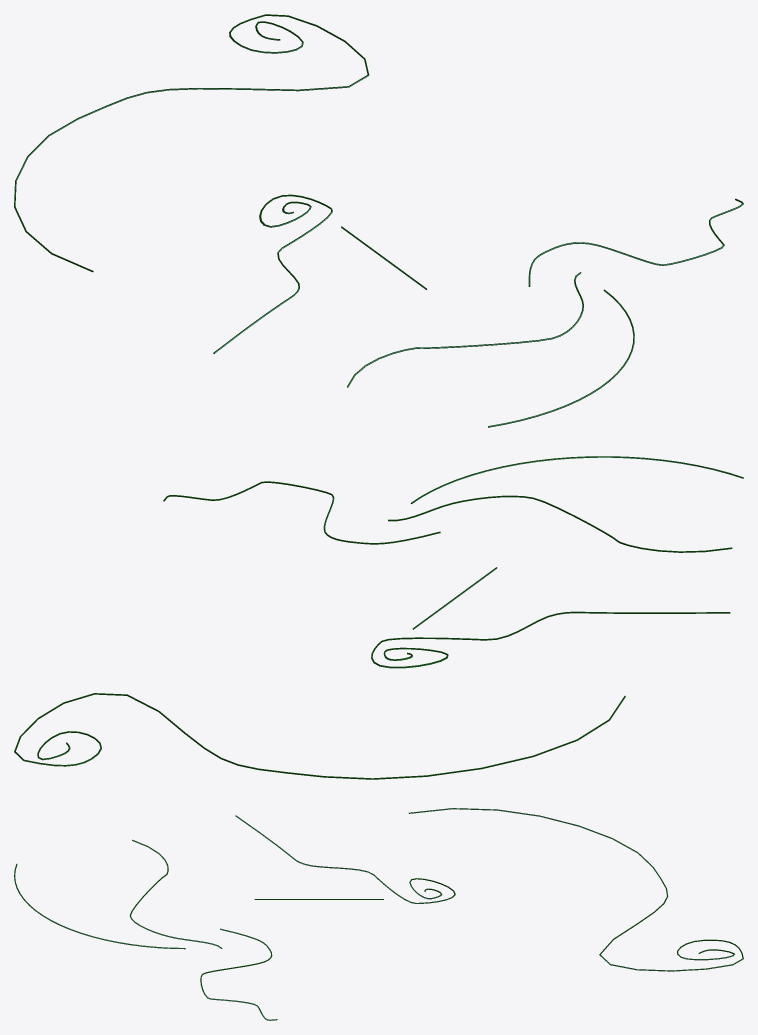
Rendered from cip+¦s.FBX.
3 renders of one model, top to bottom at view 1: azimuth 30°, elevation 25°; view 2: azimuth 150°, elevation 25°; view 3: azimuth 270°, elevation 25°, orthographic. The views are drawn at different scales.
Visible parts, largest first — view 1: Line005, Line004, Line002, Line003; view 2: Line005, Line004, Line003, Arc001, Line002; view 3: Line005, Line004, Line002, Arc001, Line003.
Boxes of the visible parts, x1,y1,x2,y2 form: Line005: (14,14,369,272); Line004: (213,194,332,353); Line002: (528,198,743,286); Line003: (347,272,583,387); Line005: (14,693,625,779); Line004: (371,611,730,668); Line003: (388,495,732,552); Arc001: (410,456,743,503); Line002: (163,481,440,544); Line005: (409,808,743,971); Line004: (235,815,455,903); Line002: (200,928,277,1020); Arc001: (14,864,185,949); Line003: (129,839,222,948).
Bounding box in the file's own units: 524 × 1.31 × 761.
